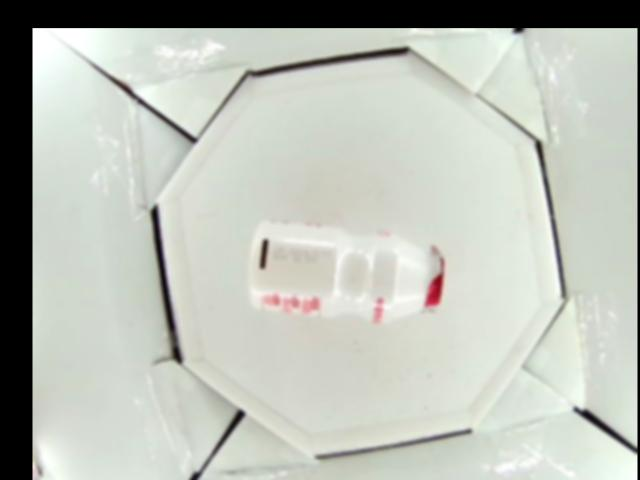Bottle: (245, 219, 446, 326)
